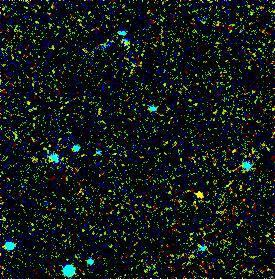star: (187, 181, 217, 211)
